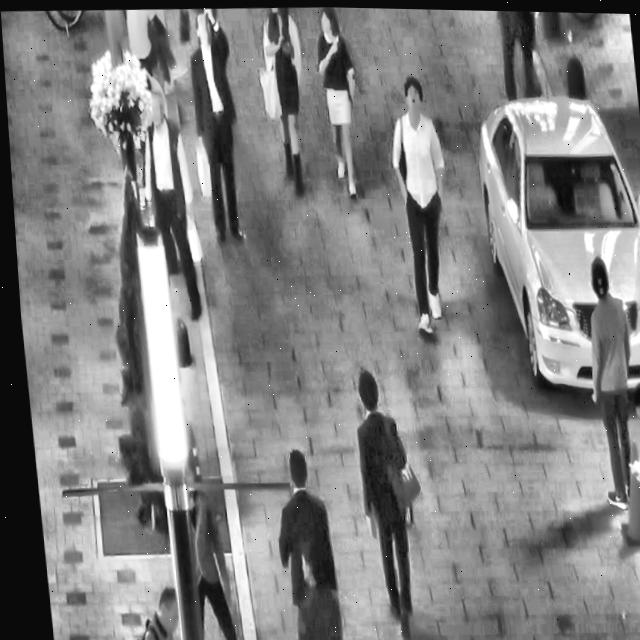light_vehicle: (462, 71, 640, 403)
